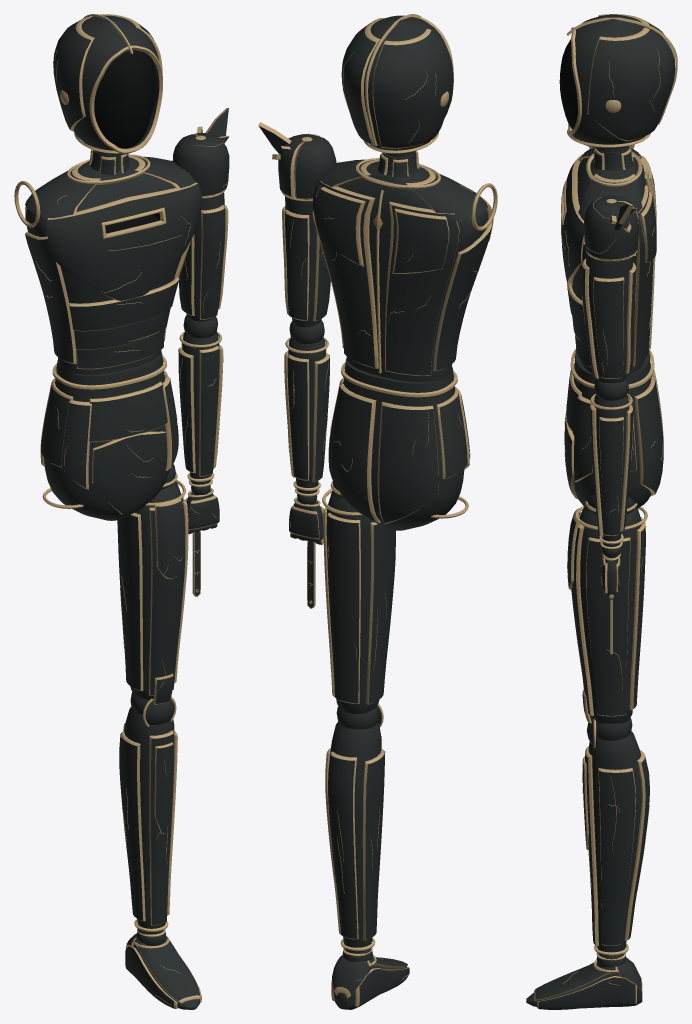
The model's file is Passenger_Parts.fbx.
3 views of the same model, side by side, from view 1: azimuth 30°, elevation 25°; view 2: azimuth 150°, elevation 25°; view 3: azimuth 270°, elevation 25° (orthographic). The views are drawn at different scales.
Parts seen in each view (by area): view 1: Part_Chest, Part_Hips, Part_Thigh, Part_Shin, Part_Head, Part_UpperArm, Part_Forearm, Part_FacePlate, Part_Foot, Part_Hand, Part_FingerTag; view 2: Part_Chest, Part_Hips, Part_Head, Part_Thigh, Part_Shin, Part_UpperArm, Part_Forearm, Part_Foot, Part_Hand, Part_FingerTag; view 3: Part_Shin, Part_Thigh, Part_Head, Part_Chest, Part_UpperArm, Part_Hips, Part_Forearm, Part_Foot, Part_FacePlate, Part_Hand, Part_ShoulderShard.
Boxes of the visible parts, left/top/right/bottom form: Part_Chest: left=14, top=149, right=201, bottom=374; Part_Hips: left=40, top=351, right=178, bottom=520; Part_Thigh: left=117, top=464, right=188, bottom=704; Part_Shin: left=119, top=692, right=177, bottom=937; Part_Head: left=53, top=14, right=162, bottom=155; Part_UpperArm: left=172, top=133, right=229, bottom=321; Part_Forearm: left=178, top=315, right=223, bottom=487; Part_FacePlate: left=94, top=50, right=155, bottom=148; Part_Foot: left=125, top=929, right=201, bottom=1009; Part_Hand: left=185, top=485, right=219, bottom=534; Part_FingerTag: left=192, top=531, right=200, bottom=596; Part_Chest: left=312, top=150, right=497, bottom=382; Part_Hips: left=328, top=358, right=470, bottom=530; Part_Head: left=341, top=14, right=453, bottom=157; Part_Thigh: left=322, top=481, right=395, bottom=713; Part_Shin: left=325, top=703, right=385, bottom=956; Part_UpperArm: left=278, top=133, right=336, bottom=327; Part_Forearm: left=284, top=320, right=329, bottom=496; Part_Foot: left=331, top=948, right=409, bottom=1009; Part_Hand: left=289, top=494, right=323, bottom=544; Part_FingerTag: left=307, top=541, right=315, bottom=608; Part_Shin: left=582, top=716, right=649, bottom=960; Part_Thigh: left=567, top=494, right=647, bottom=723; Part_Head: left=566, top=14, right=677, bottom=152; Part_Chest: left=561, top=144, right=656, bottom=375; Part_UpperArm: left=581, top=196, right=638, bottom=382; Part_Hips: left=564, top=348, right=663, bottom=511; Part_Forearm: left=590, top=378, right=633, bottom=549; Part_Foot: left=526, top=953, right=642, bottom=1009; Part_FacePlate: left=559, top=39, right=577, bottom=129; Part_Hand: left=601, top=547, right=621, bottom=599; Part_ShoulderShard: left=611, top=204, right=638, bottom=232.
Bounding box in the file's own units: 0.4913 × 2.15 × 0.3054.
